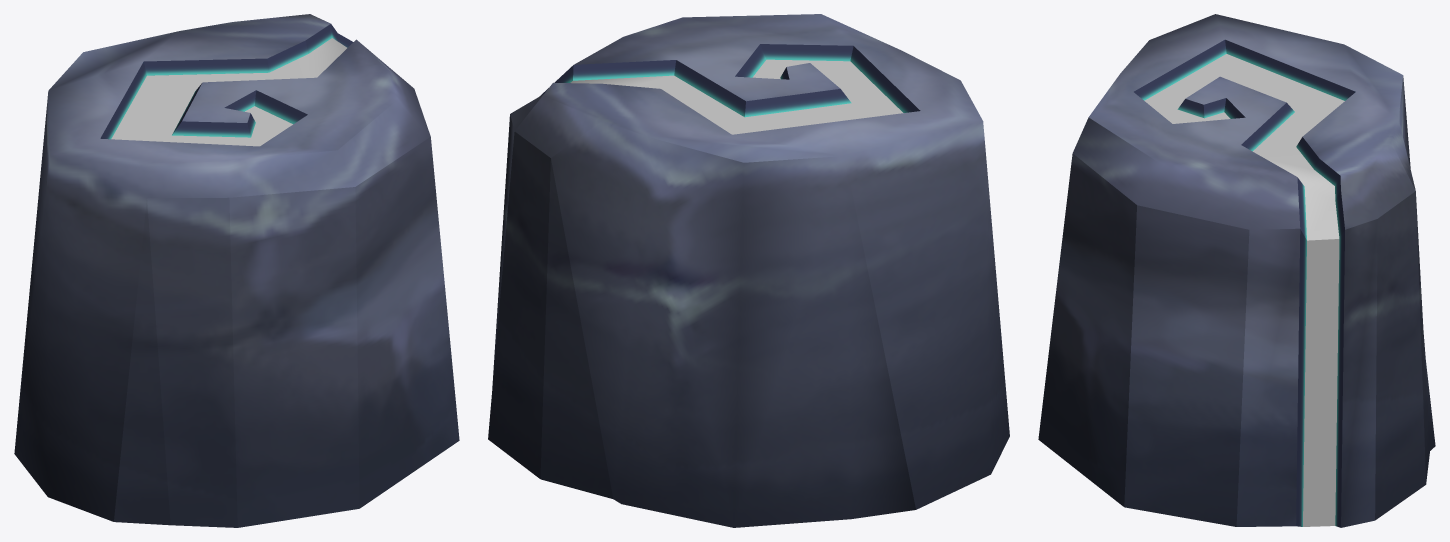
Rendered from Snake_rock_03.fbx.
3 renders of one model, left to right at view 1: azimuth 30°, elevation 25°; view 2: azimuth 150°, elevation 25°; view 3: azimuth 270°, elevation 25°, orthographic. The views are drawn at different scales.
Visible parts, largest first — view 1: Snake_rock_03; view 2: Snake_rock_03; view 3: Snake_rock_03.
Boxes of the visible parts, left/top/right/bottom form: Snake_rock_03: left=14, top=14, right=459, bottom=527; Snake_rock_03: left=488, top=14, right=1009, bottom=527; Snake_rock_03: left=1038, top=14, right=1435, bottom=527.
Size of the model in its own units: 135 by 106 by 118.
